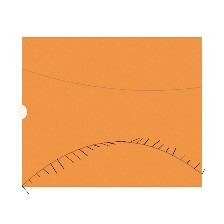pterygium_lesion: (22, 91, 74, 133)
